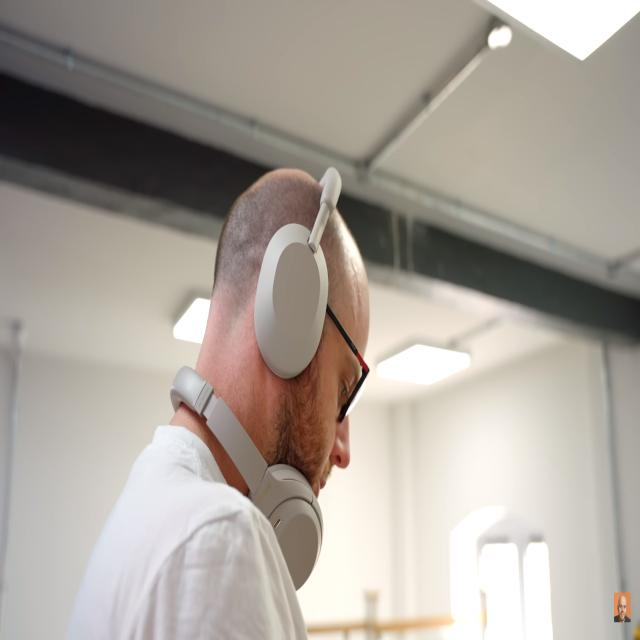Headphone: (169, 363, 325, 595), (252, 165, 345, 384)
